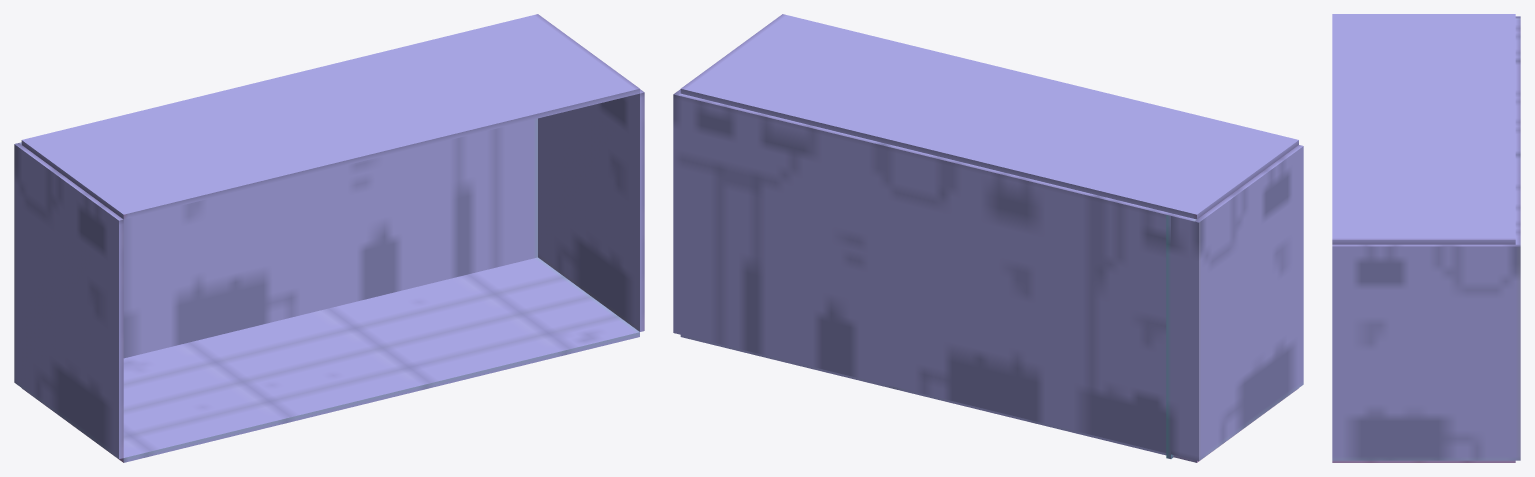
The model's file is BuildingModule_Interior_G_00.fbx.
3 views of the same model, side by side, from view 1: azimuth 30°, elevation 25°; view 2: azimuth 150°, elevation 25°; view 3: azimuth 270°, elevation 25° (orthographic). The views are drawn at different scales.
Visible parts, largest first — view 1: BuildingModule_Interior_G_00; view 2: BuildingModule_Interior_G_00; view 3: BuildingModule_Interior_G_00.
Boxes of the visible parts, x1,y1,x2,y2 form: BuildingModule_Interior_G_00: (14, 14, 644, 462); BuildingModule_Interior_G_00: (673, 14, 1303, 462); BuildingModule_Interior_G_00: (1332, 14, 1520, 462).
Bounding box in the file's own units: 565 × 255 × 195.
